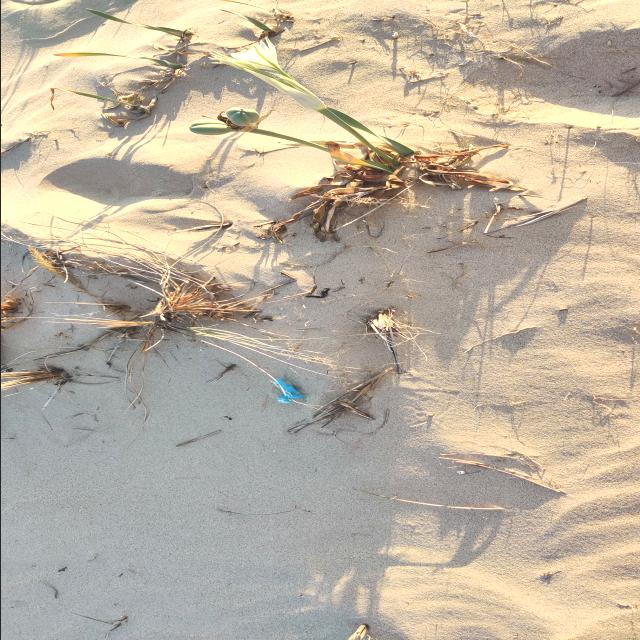Unlabeled litter: (271, 377, 307, 402)
